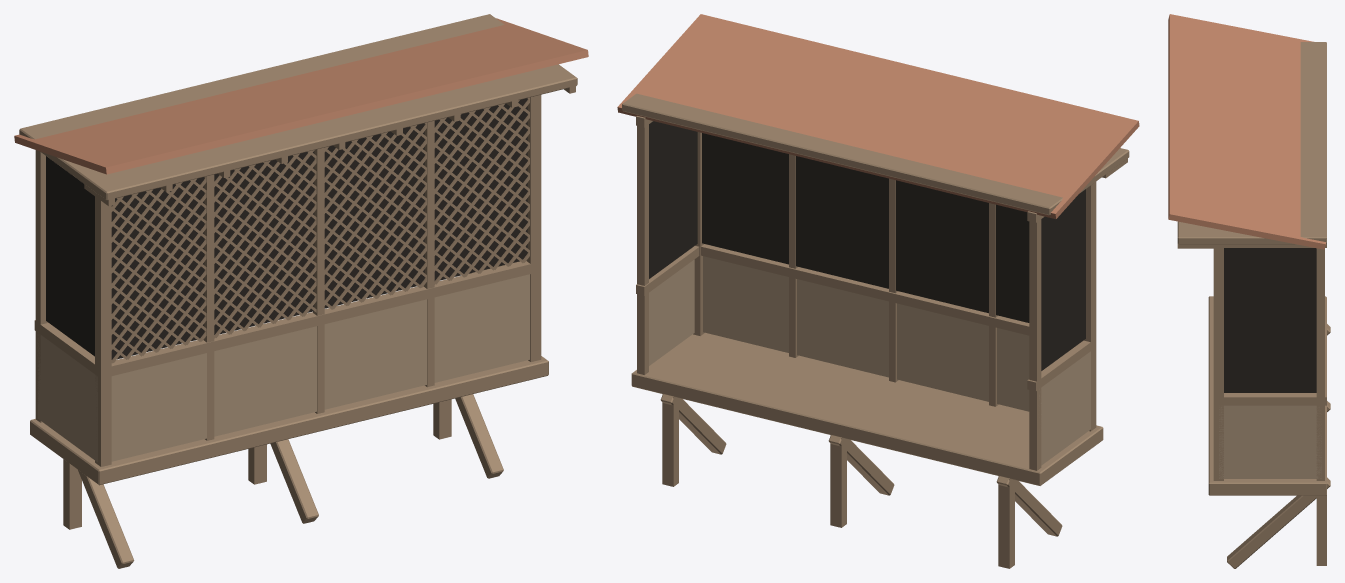
The model's file is cumba_buyuk.glb.
3 views of the same model, side by side, from view 1: azimuth 30°, elevation 25°; view 2: azimuth 150°, elevation 25°; view 3: azimuth 270°, elevation 25° (orthographic). The views are drawn at different scales.
Visible parts, largest first — view 1: cumba_buyuk; view 2: cumba_buyuk; view 3: cumba_buyuk.
Part boxes in pixels (box(x1,y1,x2,y2)): cumba_buyuk: box(14, 14, 588, 568); cumba_buyuk: box(617, 14, 1139, 568); cumba_buyuk: box(1168, 14, 1330, 568).
Size of the model in its own units: 4.6 by 4.03 by 1.57.
